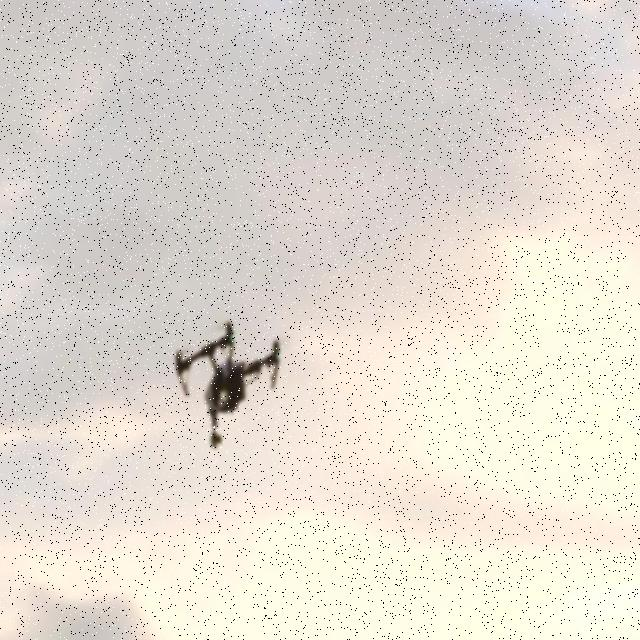UAV: (175, 319, 281, 451)
